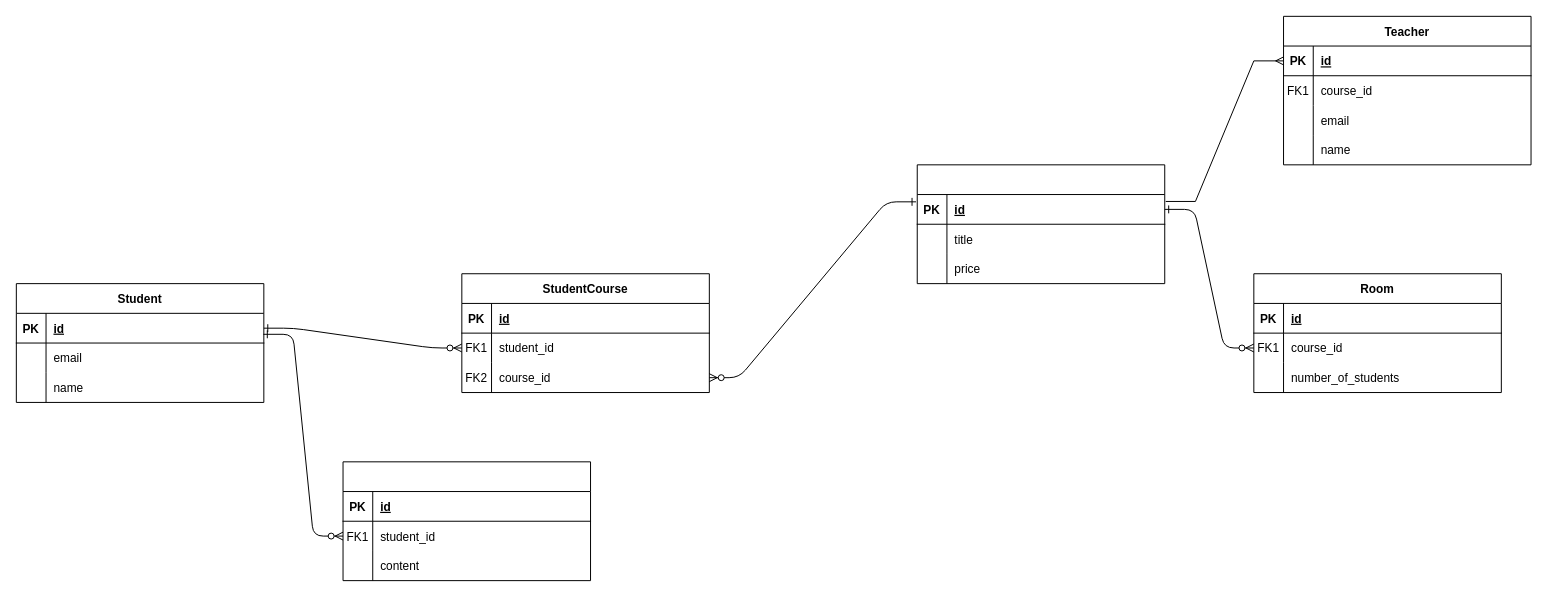
The diagram is 1547 pixels wide and 597 high, and some of its shapes have lost their labels. The shapes that lost their labels are listed below. From the top down, each one's box as (x1, y1, x2, y2) in pixels, then its label:
(916, 164, 1165, 284): Course
(342, 461, 591, 581): Comment
